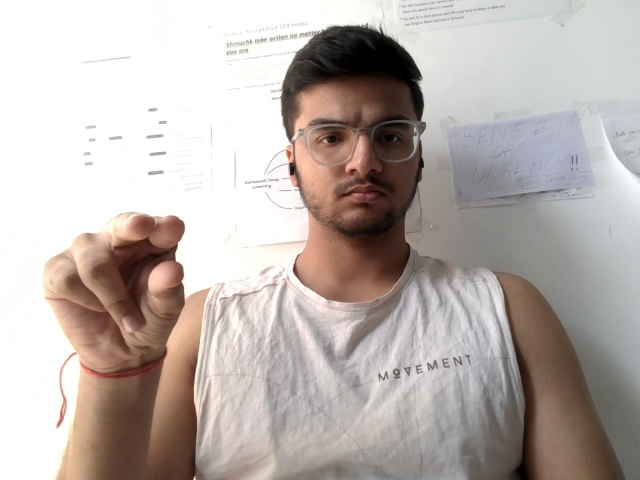no: (25, 191, 205, 418)
